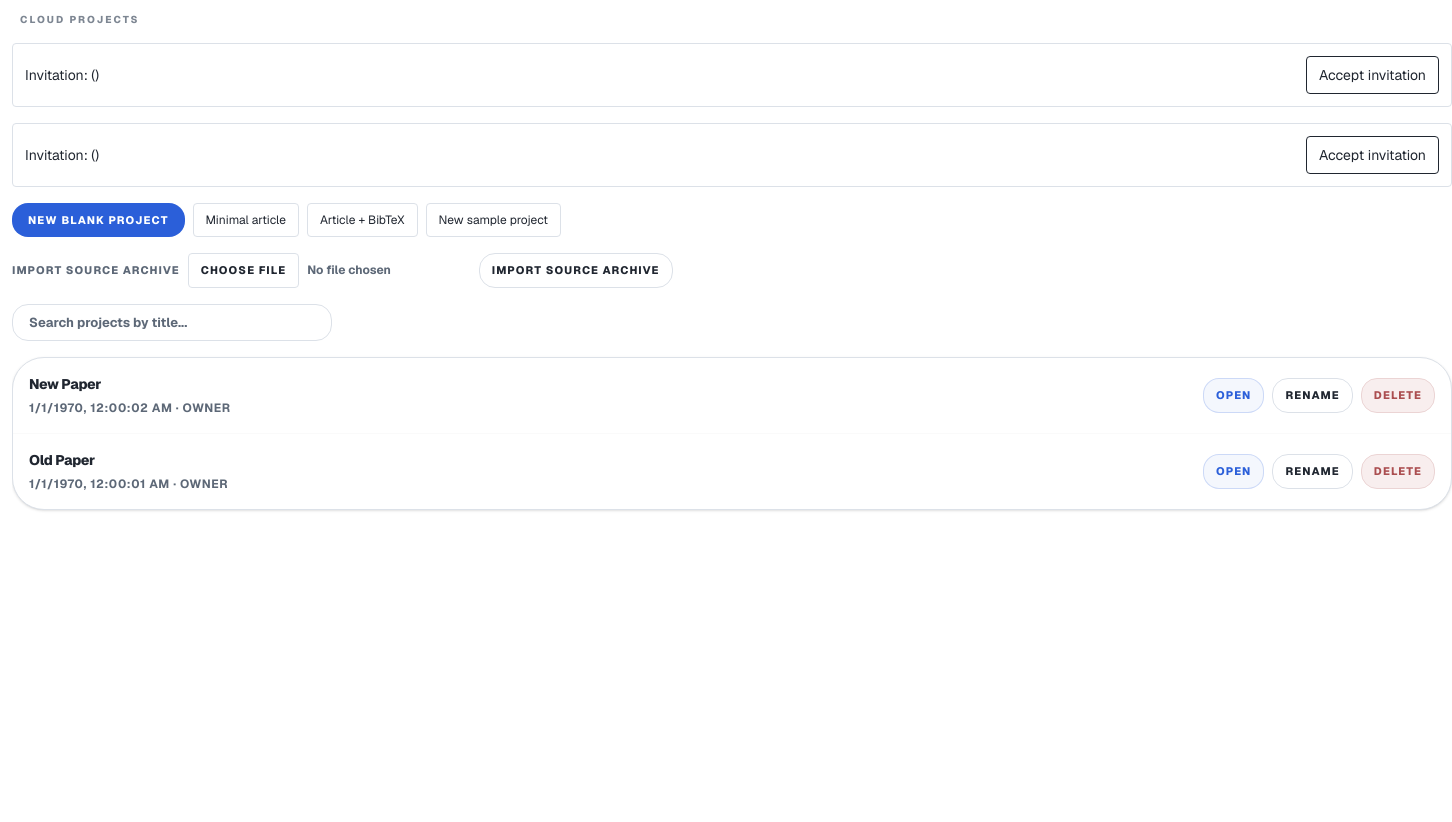
CloudProjectList › keeps the list when delete fails and offers retry
Click the button with aria-label "Delete Old Paper". click: (1398, 472)
box: [1361,454,1435,489]
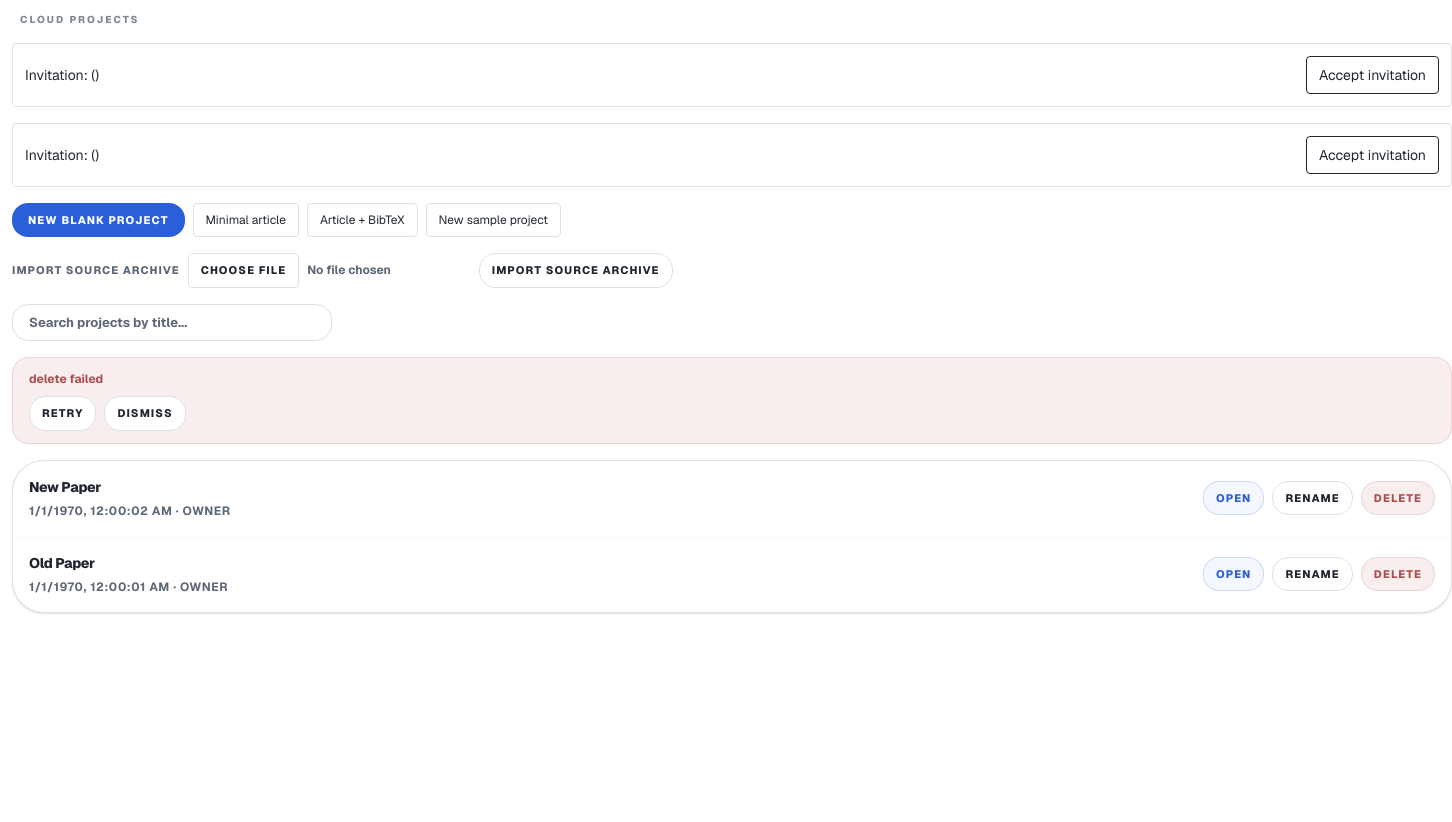
Expected: the text "Old Paper" is shown, [29,554,95,572]
Result: the message "delete failed" is shown at [29,371,103,387]
